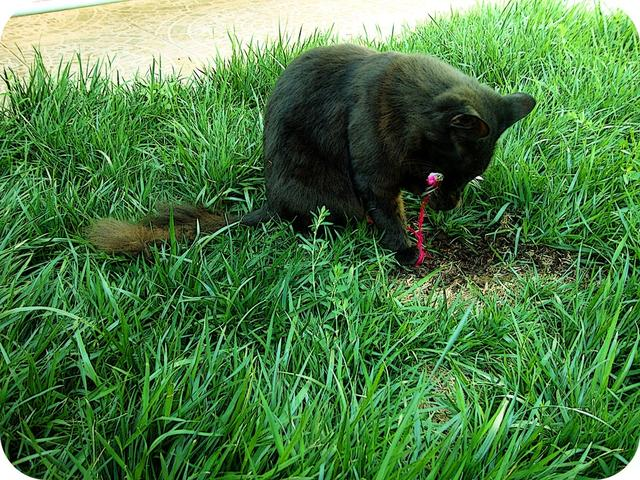cat: (254, 33, 546, 258)
